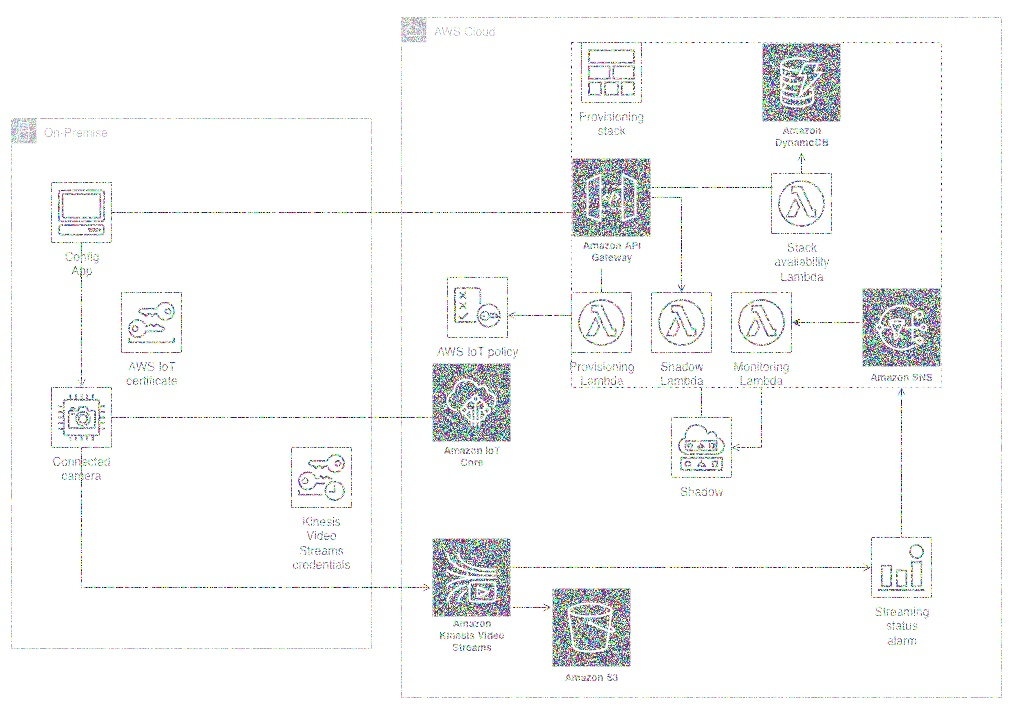API-Gateway: (572, 160, 654, 240)
CloudWatch Alarm: (866, 532, 940, 608)
Dynamo DB: (761, 37, 846, 127)
EC2: (51, 385, 112, 450)
IOT Core: (431, 362, 514, 443)
Kinesis Data Streams: (431, 534, 514, 618)
Lambda: (768, 168, 839, 240), (725, 288, 797, 356), (648, 285, 716, 356), (568, 290, 639, 356)
S3: (548, 584, 638, 671)
SNS: (862, 288, 943, 367)
Web Clients: (43, 174, 127, 249)
aws: (399, 14, 428, 44)
